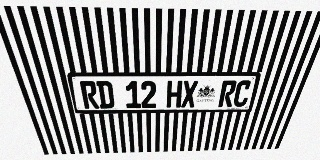1: (124, 81, 141, 108)
2: (141, 81, 156, 108)
C: (232, 80, 253, 107)
D: (96, 81, 115, 108)
H: (166, 81, 182, 108)
R: (79, 81, 100, 109), (218, 80, 237, 107)
X: (181, 81, 198, 107)
